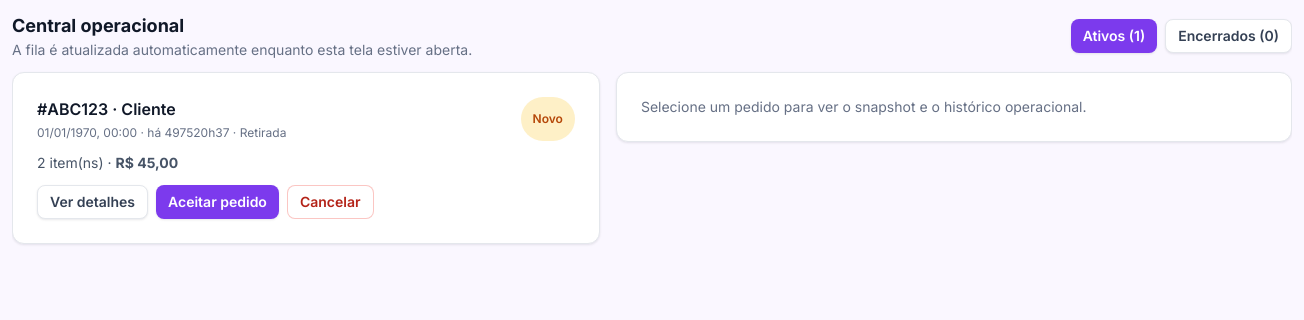
operação de pedidos no painel › erro do backend não produz falso sucesso
Click the button "Aceitar pedido" at (217, 202), box [156, 185, 279, 219]
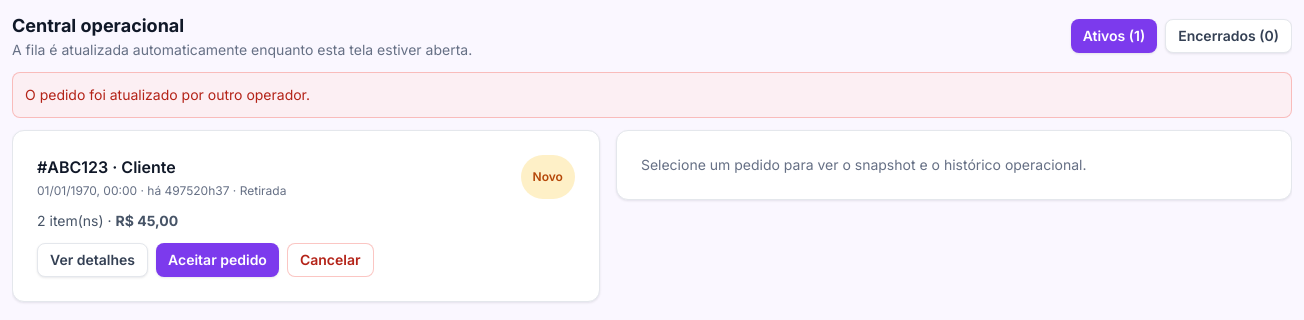
Check: the text "Novo" is shown, box [521, 155, 575, 199]
Check: the message shows "atualizado por outro operador", box [25, 86, 310, 103]
